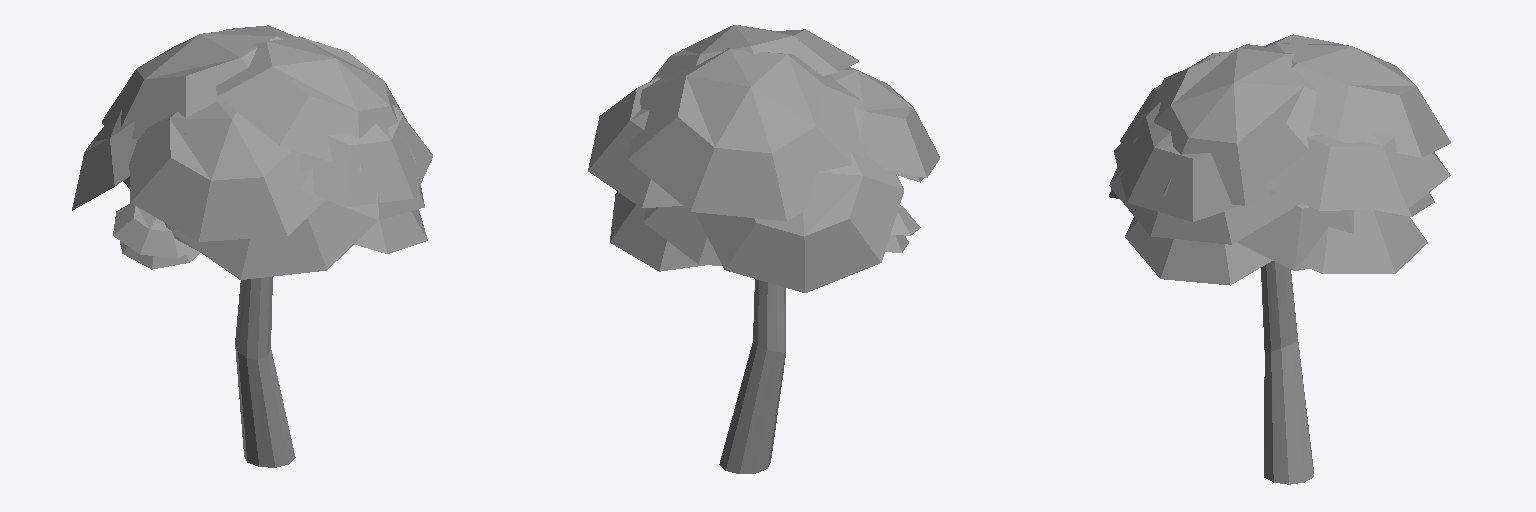
File: Tree_1.obj
The picture shows the model from 3 angles: view 1: azimuth 30°, elevation 25°; view 2: azimuth 150°, elevation 25°; view 3: azimuth 270°, elevation 25°; orthographic projection.
Visible parts, largest first — view 1: Tree_1; view 2: Tree_1; view 3: Tree_1.
Part boxes in pixels (x1,y1,x2,y2): Tree_1: (72,25,432,467); Tree_1: (588,25,939,473); Tree_1: (1109,34,1450,484).
Bounding box in the file's own units: 4.14 × 5.54 × 4.13.